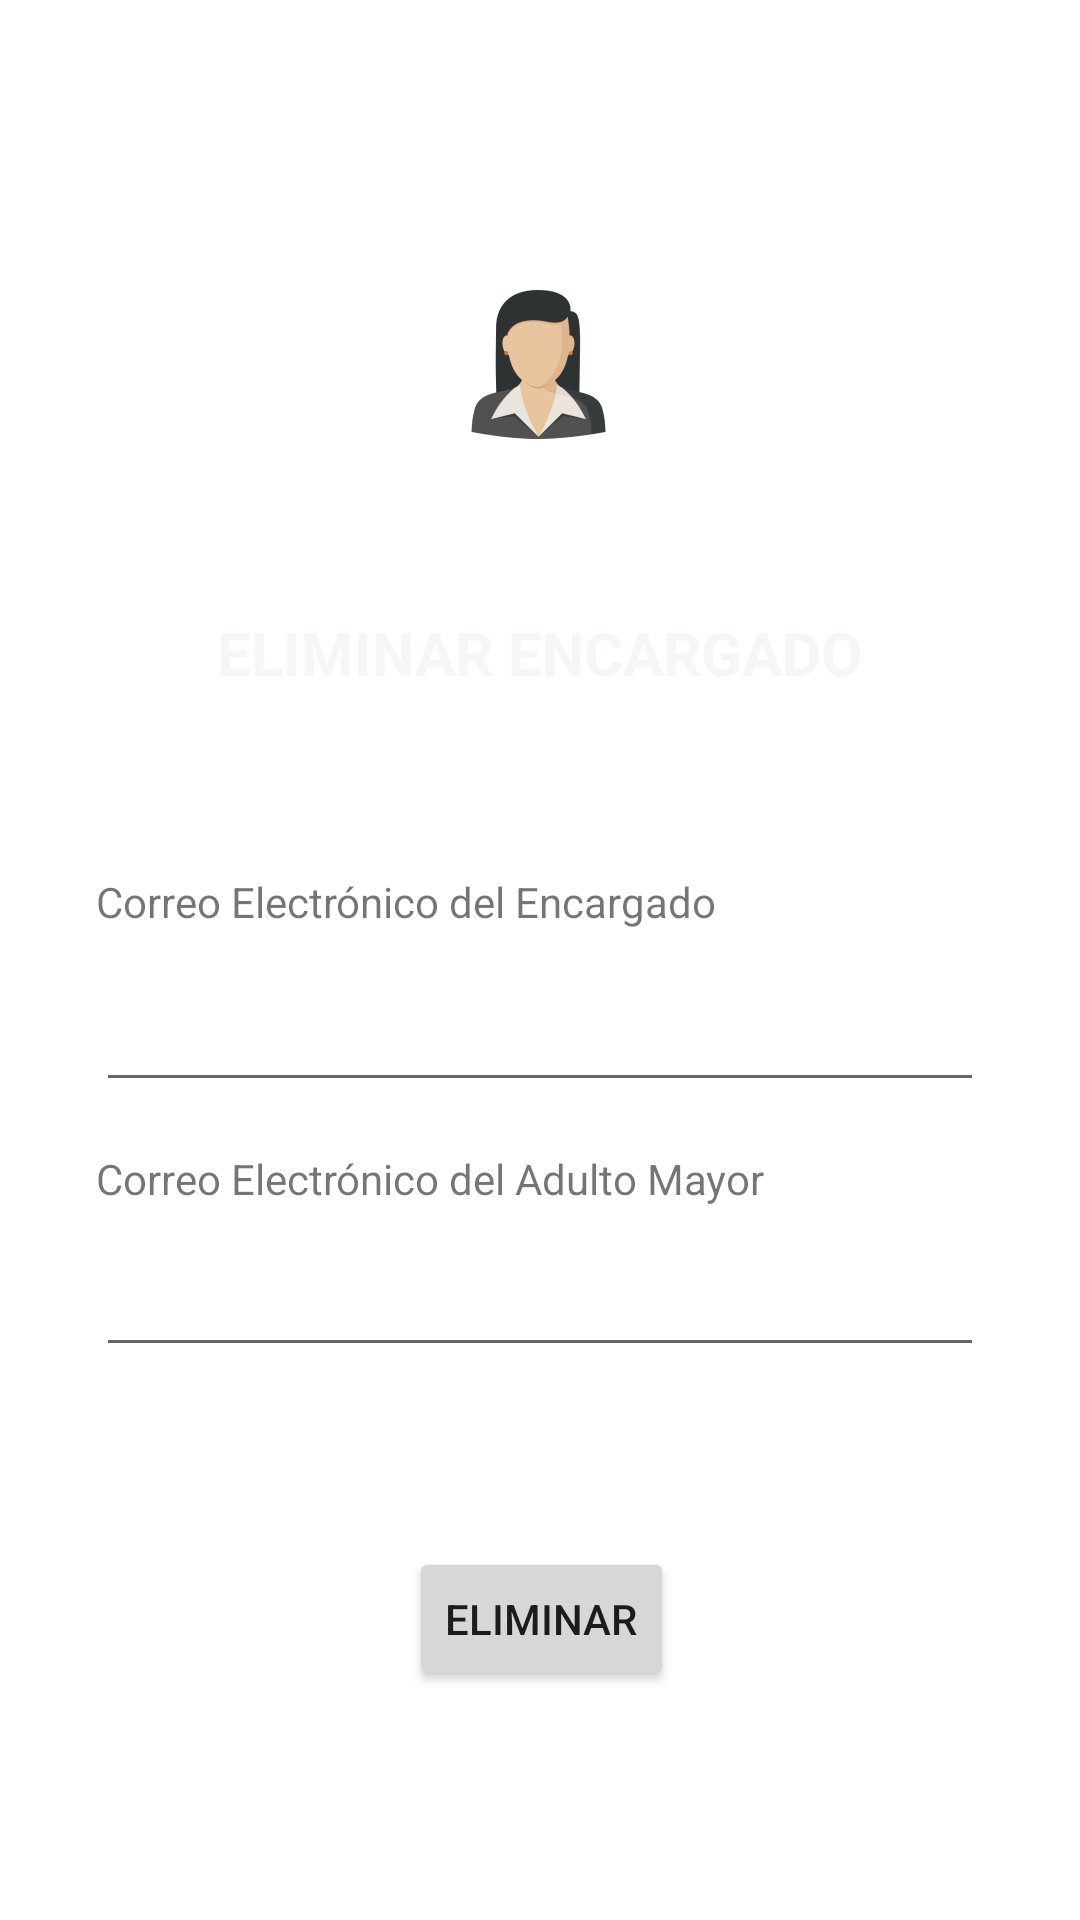

Screen size 1080 × 1920. Icon name, then its box in pixels as (x1, y1, x2, y2):
encargada user: (471, 290, 606, 439)
